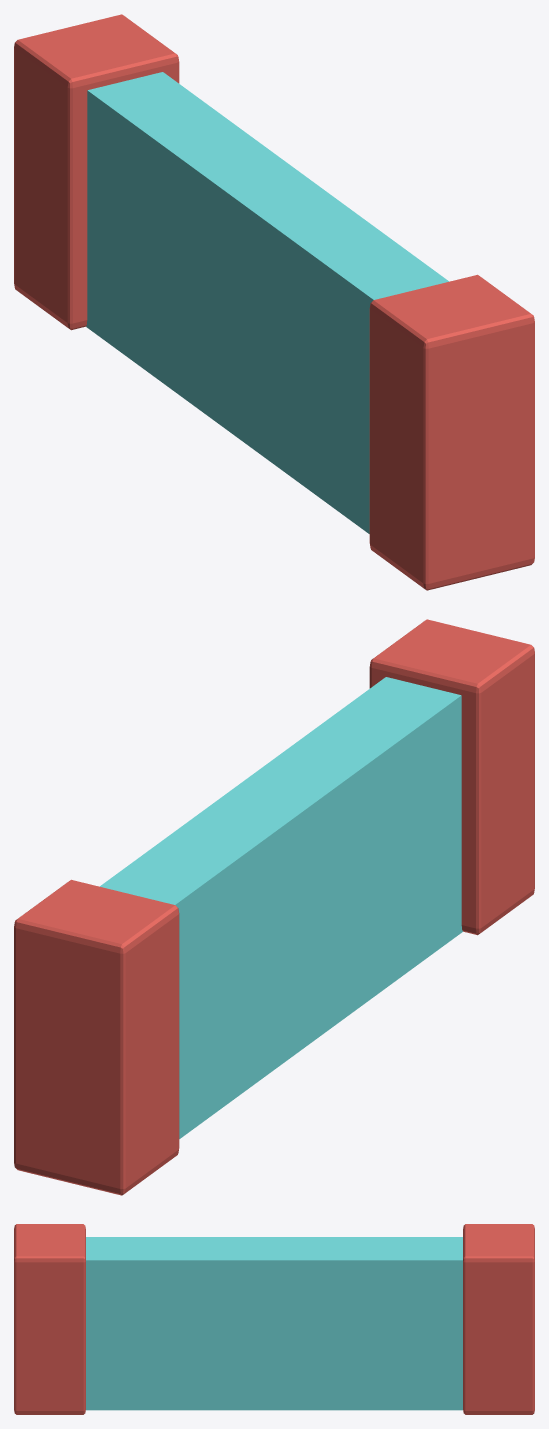
The model's file is Wall.fbx.
3 renders of one model, top to bottom at view 1: azimuth 30°, elevation 25°; view 2: azimuth 150°, elevation 25°; view 3: azimuth 270°, elevation 25°, orthographic. The views are drawn at different scales.
Visible parts, largest first — view 1: Cube, Cube.001, Cube.002; view 2: Cube, Cube.002, Cube.001; view 3: Cube, Cube.001, Cube.002.
Boxes of the visible parts, left/top/right/bottom form: Cube: left=86, top=72, right=448, bottom=533; Cube.001: left=369, top=274, right=534, bottom=590; Cube.002: left=14, top=14, right=179, bottom=330; Cube: left=100, top=677, right=462, bottom=1138; Cube.002: left=14, top=879, right=179, bottom=1195; Cube.001: left=369, top=619, right=534, bottom=935; Cube: left=86, top=1237, right=462, bottom=1410; Cube.001: left=14, top=1224, right=85, bottom=1414; Cube.002: left=463, top=1224, right=534, bottom=1414.
Size of the model in its own units: 294 by 635 by 1890.
